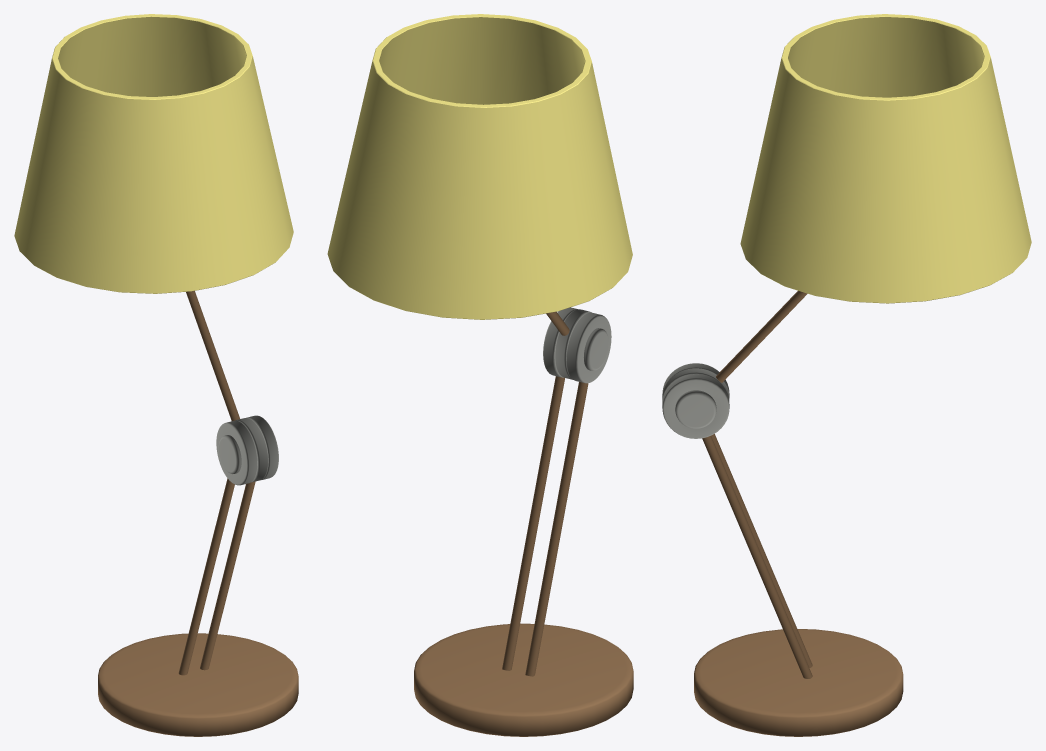
The model's file is Lamp.obj.
3 renders of one model, left to right at view 1: azimuth 30°, elevation 25°; view 2: azimuth 150°, elevation 25°; view 3: azimuth 270°, elevation 25°, orthographic. The views are drawn at different scales.
Parts seen in each view (by area): view 1: polySurface20 polySurface23, polySurface15 polySurface29, polySurface15 polySurface28, polySurface15 polySurface27, polySurface15 polySurface26, polySurface20 polySurface21, polySurface22 polySurface20, polySurface15 polySurface24, polySurface25 polySurface15; view 2: polySurface20 polySurface23, polySurface15 polySurface29, polySurface15 polySurface27, polySurface15 polySurface28, polySurface15 polySurface26, polySurface25 polySurface15, polySurface22 polySurface20, polySurface15 polySurface24; view 3: polySurface20 polySurface23, polySurface15 polySurface29, polySurface15 polySurface27, polySurface15 polySurface24, polySurface25 polySurface15, polySurface15 polySurface28, polySurface20 polySurface21.
Part boxes in pixels (left/top/right/bottom): polySurface20 polySurface23: left=14, top=14, right=293, bottom=293; polySurface15 polySurface29: left=98, top=633, right=298, bottom=736; polySurface15 polySurface28: left=178, top=478, right=234, bottom=675; polySurface15 polySurface27: left=200, top=481, right=255, bottom=670; polySurface15 polySurface26: left=216, top=420, right=257, bottom=485; polySurface20 polySurface21: left=186, top=291, right=239, bottom=420; polySurface22 polySurface20: left=235, top=418, right=268, bottom=482; polySurface15 polySurface24: left=246, top=415, right=278, bottom=479; polySurface25 polySurface15: left=218, top=435, right=241, bottom=473; polySurface20 polySurface23: left=327, top=14, right=632, bottom=319; polySurface15 polySurface29: left=414, top=623, right=633, bottom=736; polySurface15 polySurface27: left=502, top=376, right=564, bottom=670; polySurface15 polySurface28: left=525, top=382, right=588, bottom=676; polySurface15 polySurface26: left=566, top=312, right=611, bottom=383; polySurface25 polySurface15: left=584, top=328, right=608, bottom=370; polySurface22 polySurface20: left=554, top=309, right=591, bottom=379; polySurface15 polySurface24: left=543, top=307, right=577, bottom=377; polySurface20 polySurface23: left=740, top=14, right=1031, bottom=303; polySurface15 polySurface29: left=694, top=629, right=903, bottom=736; polySurface15 polySurface27: left=702, top=436, right=812, bottom=678; polySurface15 polySurface24: left=662, top=374, right=729, bottom=438; polySurface25 polySurface15: left=675, top=390, right=716, bottom=428; polySurface15 polySurface28: left=711, top=434, right=812, bottom=667; polySurface20 polySurface21: left=716, top=290, right=807, bottom=382.
Size of the model in its own units: 1.48 by 3.56 by 1.87.
Materials: 3 (3 with a texture image).
